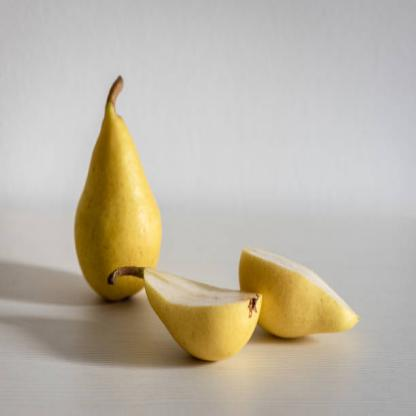Paer: (76, 83, 171, 300)
